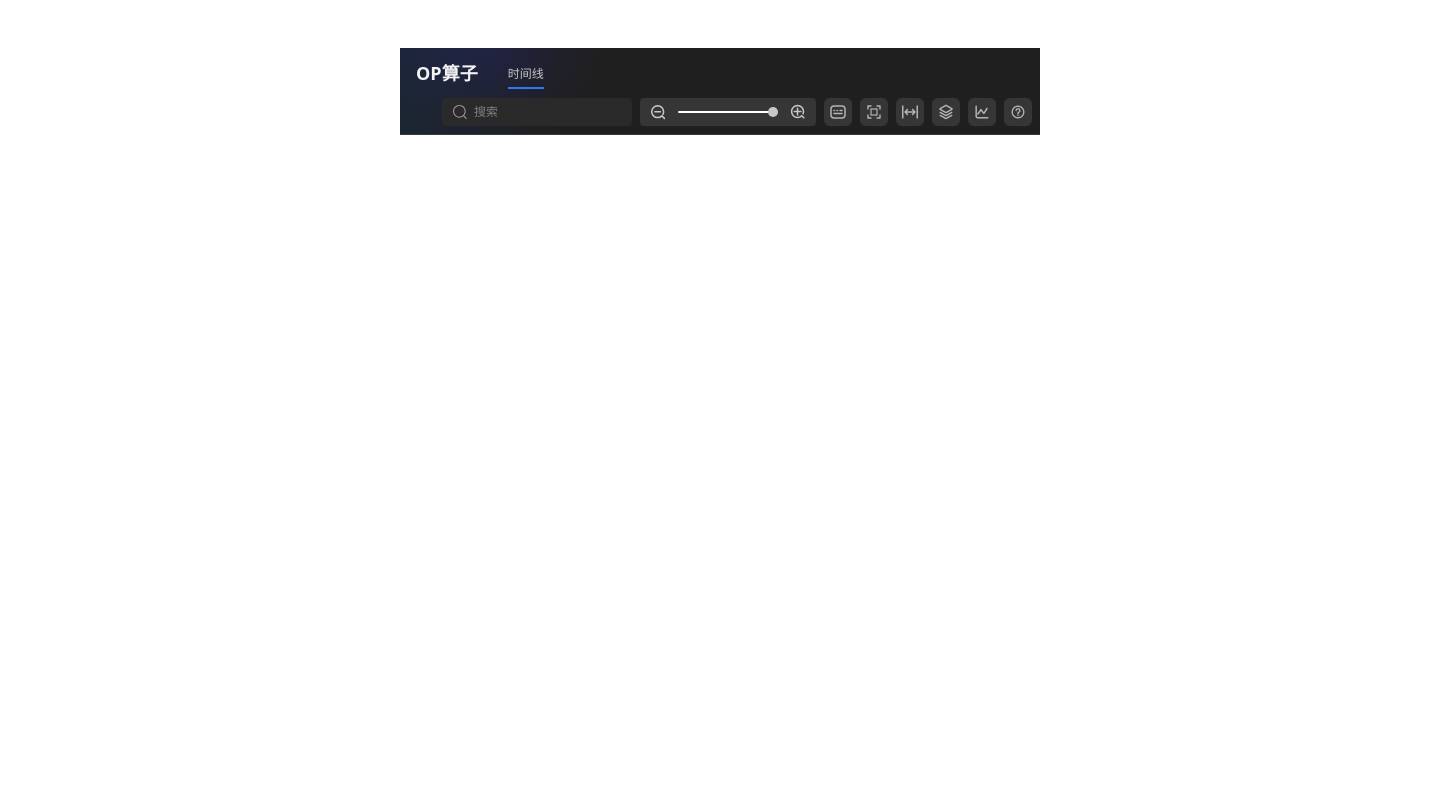
Scenario: ReportToolbar › PR-TOOLBAR-023: popover lists SVG glyphs and i18n section labels
Click the button with test id "toggle-shortcuts" at (838, 112), box [824,98,852,126]
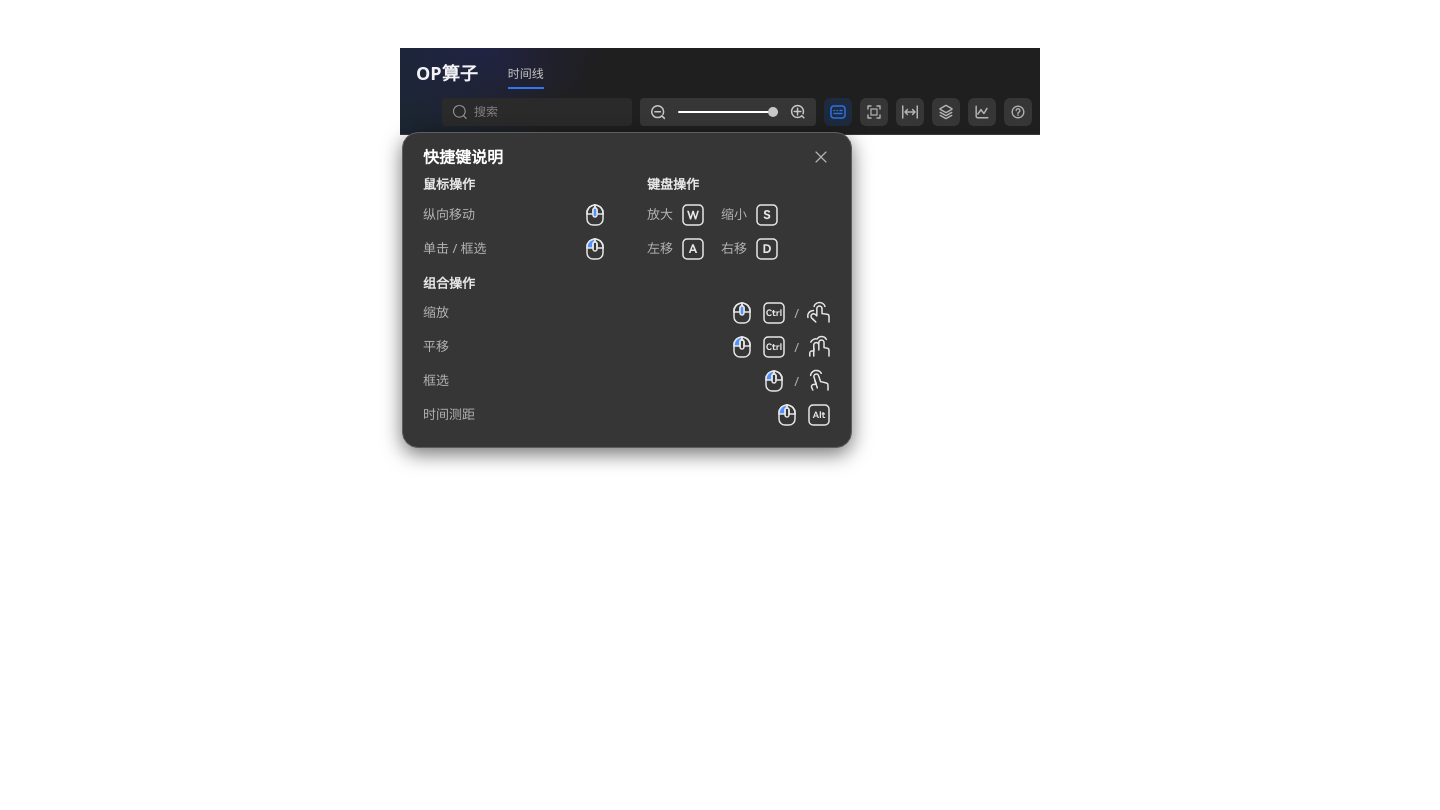
Check: the dialog with test id "shortcut-help" is shown, box [402,132,852,448]
Check: the element showing "鼠标操作 纵向移动 单击 / 框选 键盘操作 放大 缩小 左移 右移" is shown, box [423,177,831,261]
Check: the element showing "组合操作 缩放 / 平移 / 框选 / 时间测距" is shown, box [423,276,831,427]
